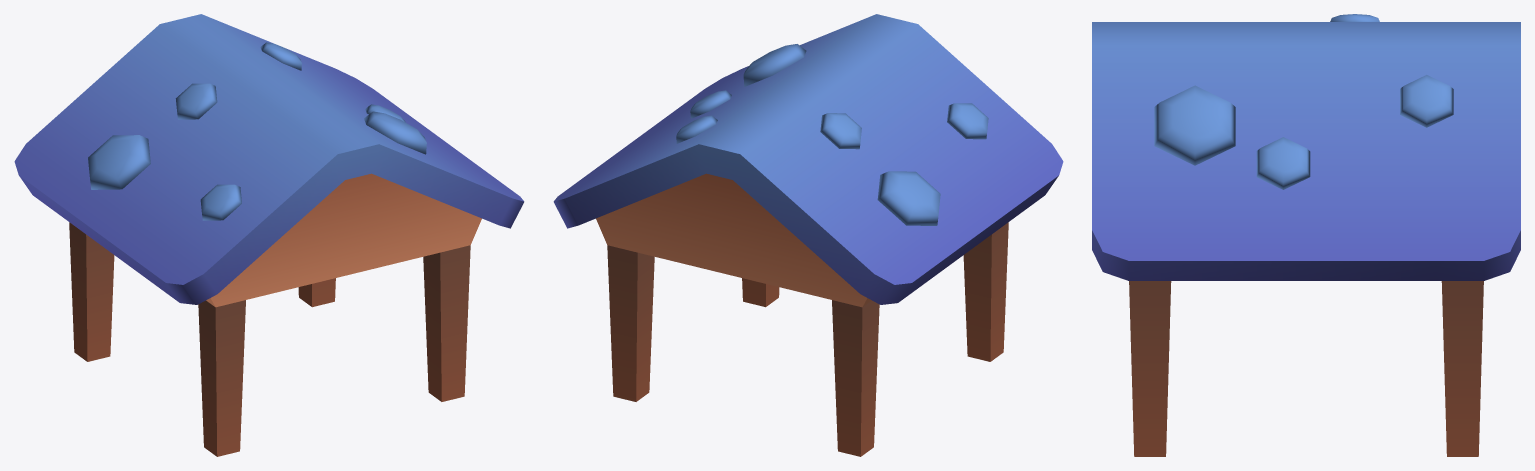
The model's file is mini-forest--building-roof.glb.
3 views of the same model, side by side, from view 1: azimuth 30°, elevation 25°; view 2: azimuth 150°, elevation 25°; view 3: azimuth 270°, elevation 25° (orthographic). The views are drawn at different scales.
Parts seen in each view (by area): view 1: building-roof; view 2: building-roof; view 3: building-roof.
Part boxes in pixels (x1,y1,x2,y2): building-roof: (14,14,524,456); building-roof: (553,14,1063,456); building-roof: (1092,14,1520,456).
Bounding box in the file's own units: 1.34 × 1.05 × 1.17.
Materials: 1 (1 with a texture image).
